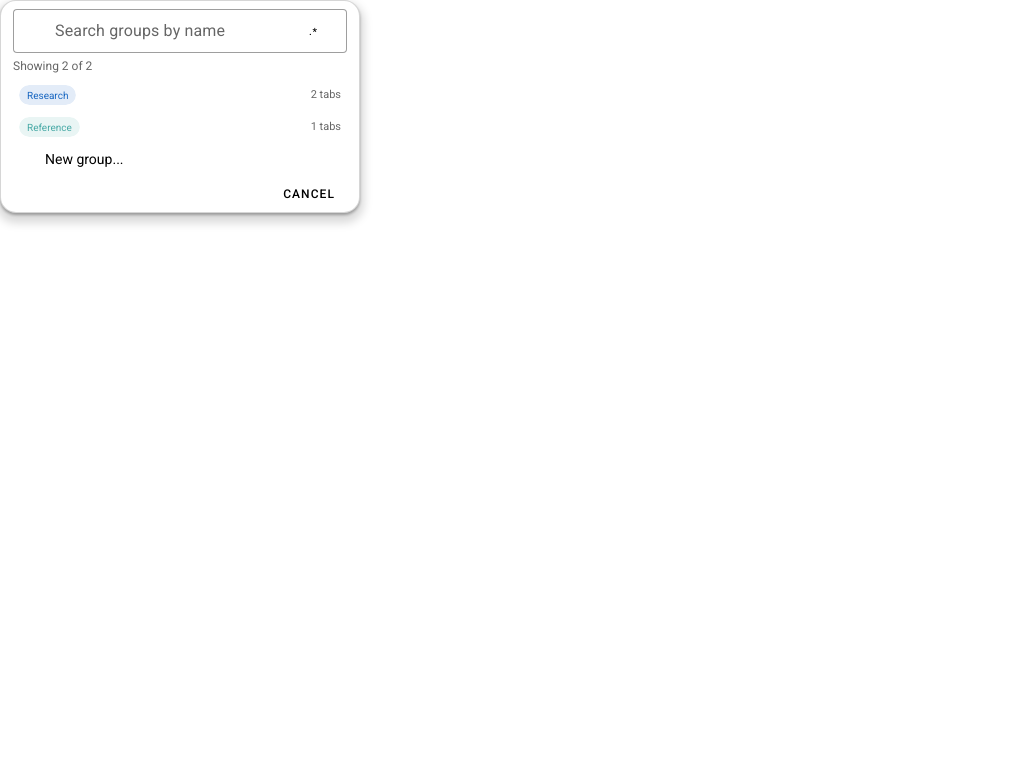
searching the picker › shows the no-match empty state when a plain search finds no group
Type "zzz" into the search field labelled "Search groups by name" at (148, 29), box x1=49 y1=9 x2=247 y2=49
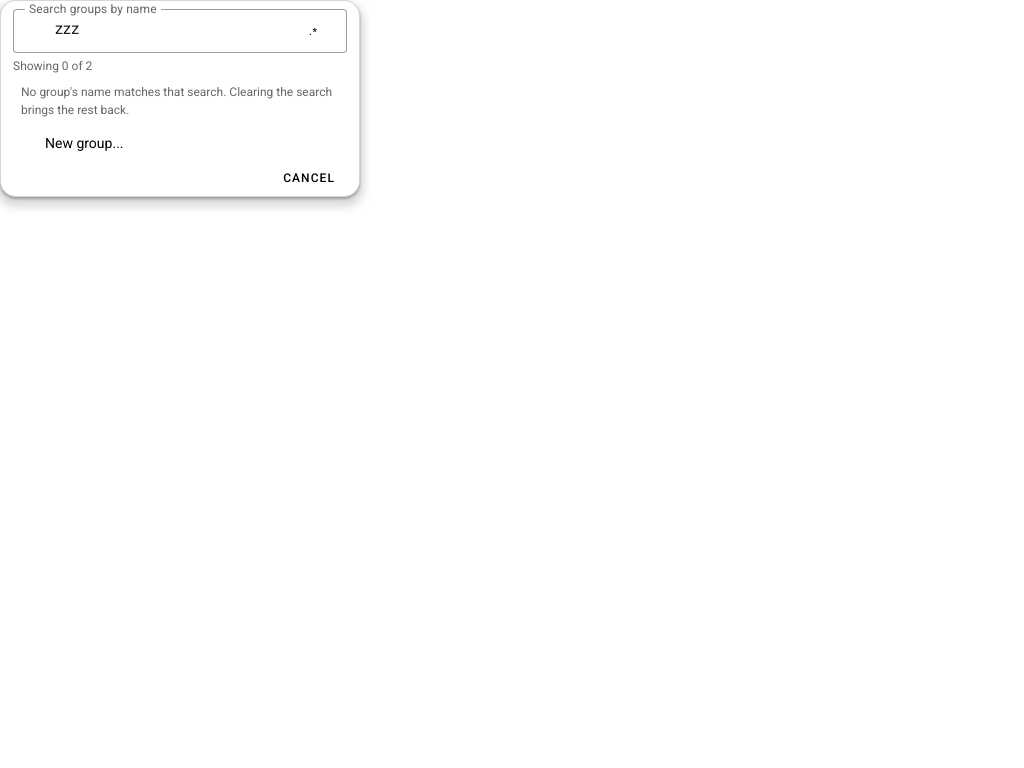
Check: the option "New group..." is shown, box x1=45 y1=135 x2=124 y2=151
Check: the text "No group's name matches that search" is shown, box x1=21 y1=85 x2=332 y2=117
Check: the number of options is 1, box x1=45 y1=135 x2=124 y2=151
